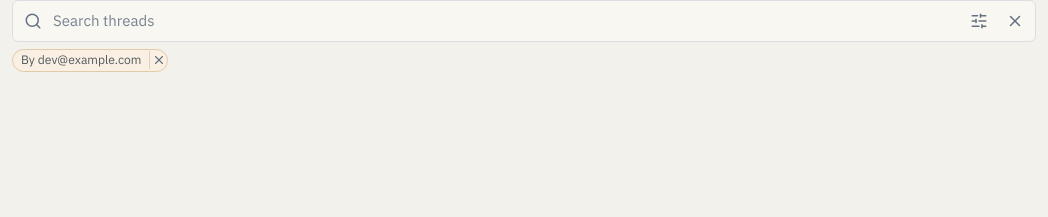
IntegratedSearchBar › opens the filters panel when a badge is clicked
Click the button with aria-label "Open filters for By dev@example.com". click: [81, 60]
box: [13,50,149,71]
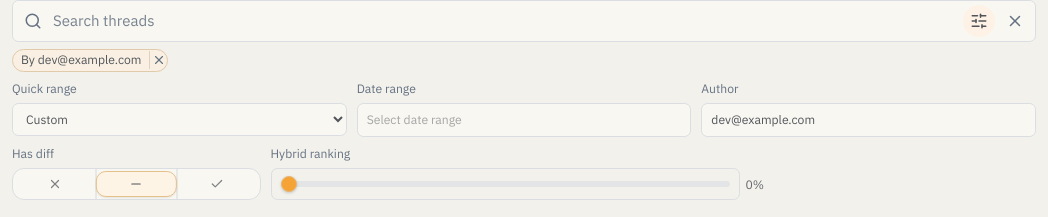
Expected: the button named "Filters" is expanded, [963,5,995,37]
Expected: the field labelled "Author" holds "dev@example.com", [701,103,1036,137]
